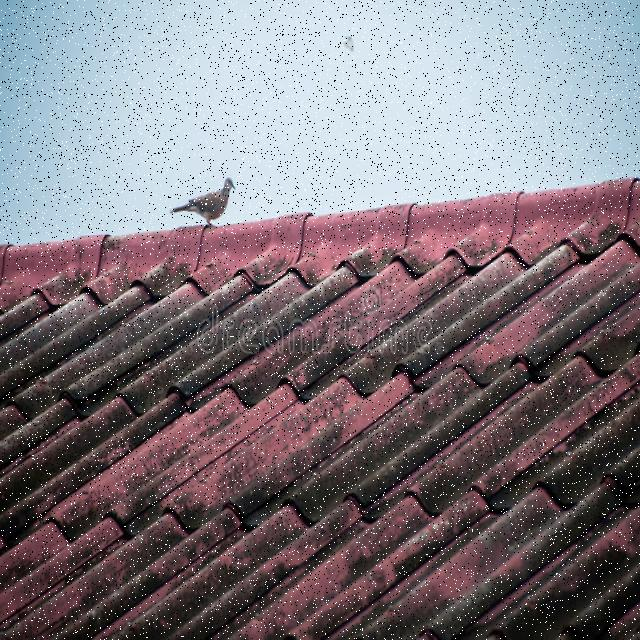bird: (170, 176, 237, 228)
